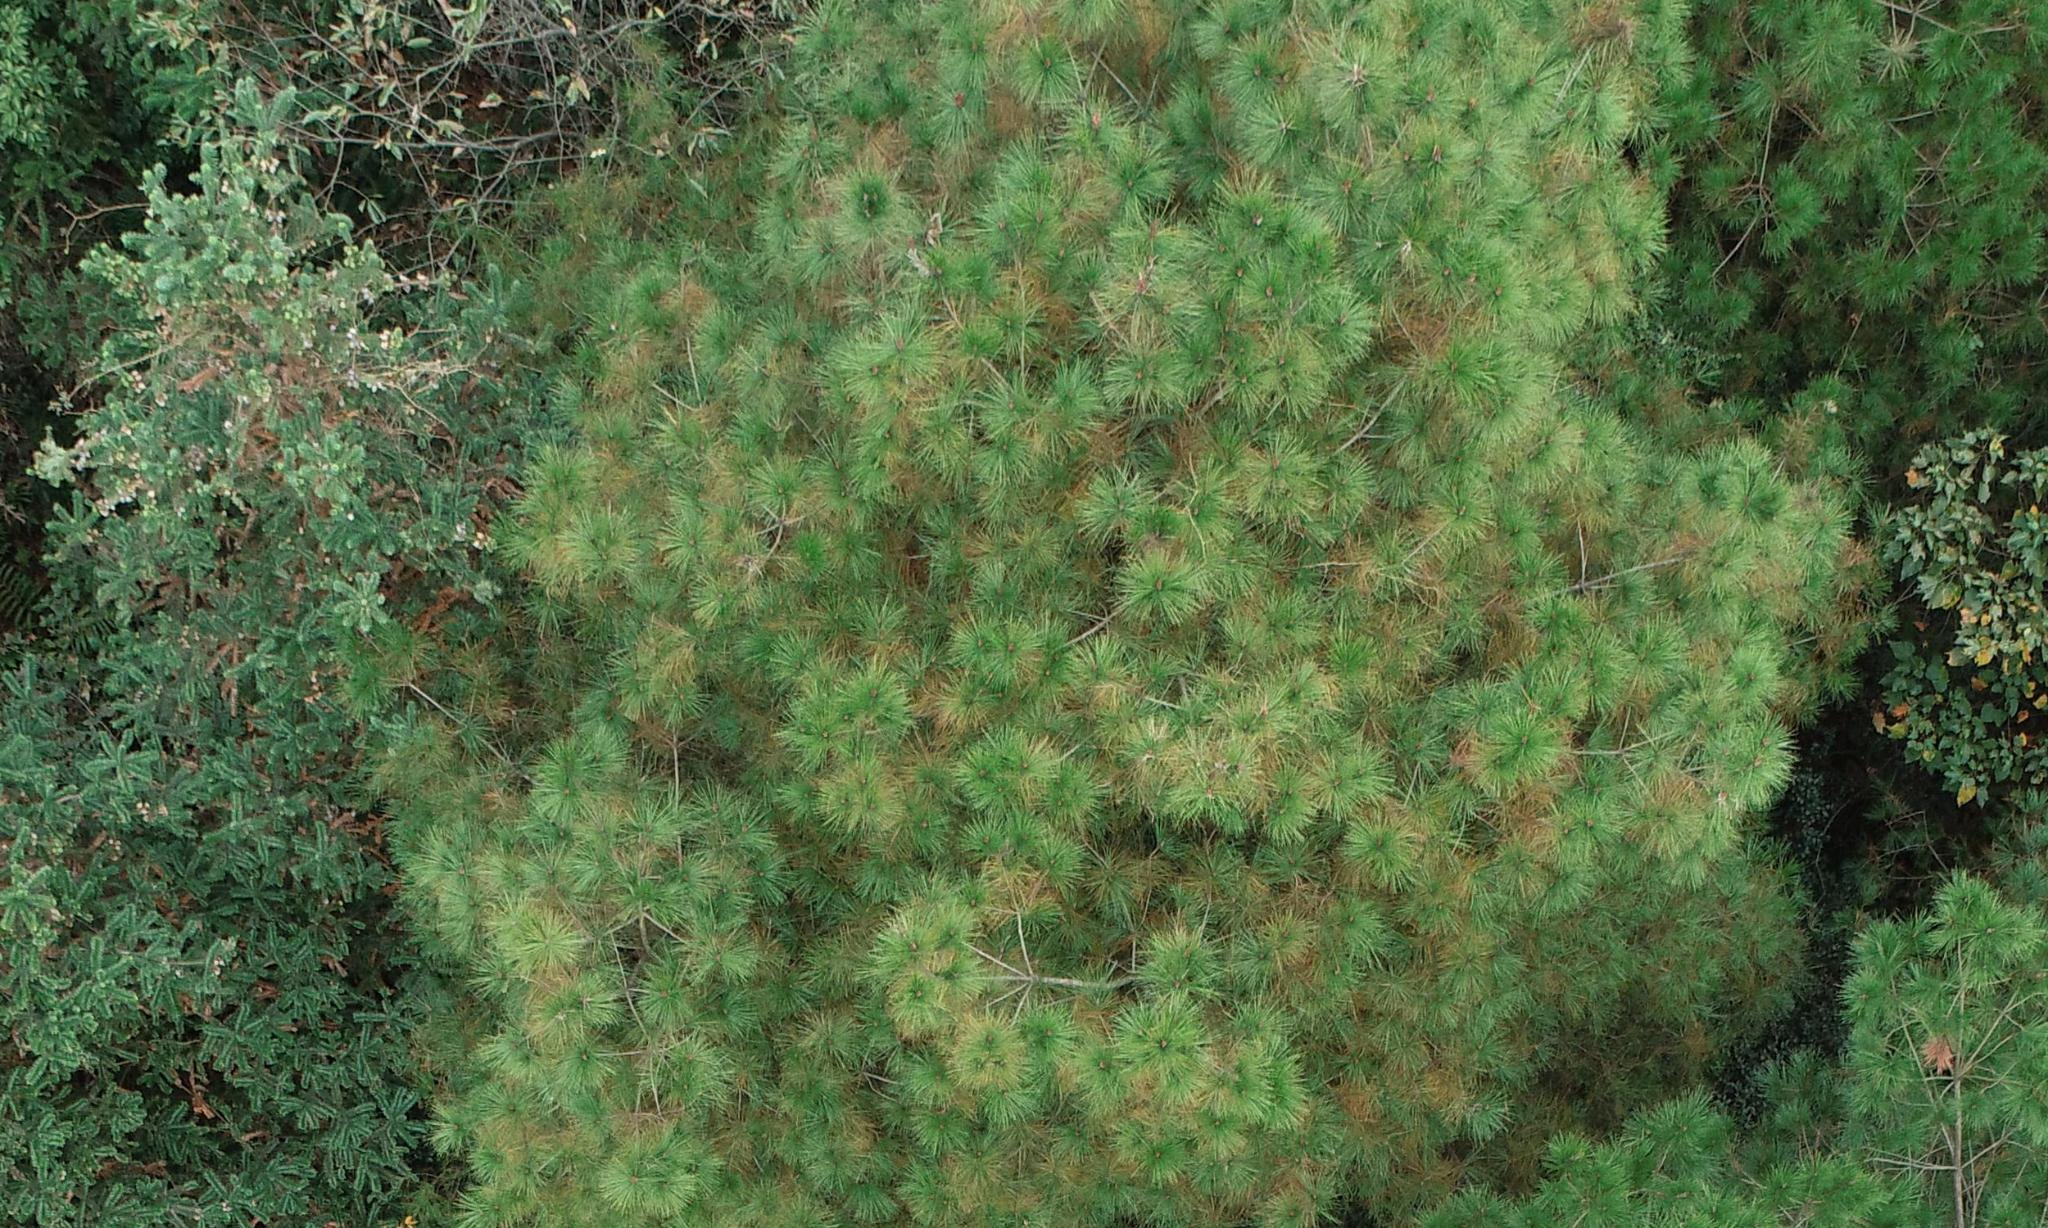light: (384, 0, 1814, 1194)
